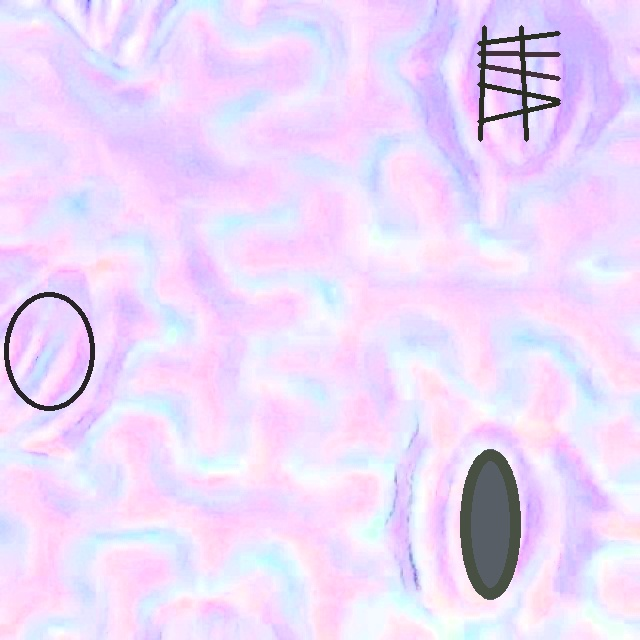close: (460, 449, 519, 599)
open: (4, 291, 94, 412), (477, 25, 560, 141)
